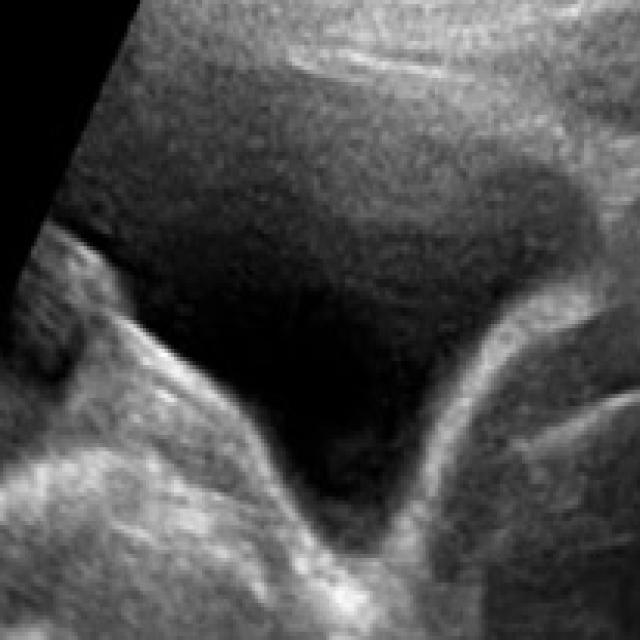bladder: (28, 16, 629, 602)
